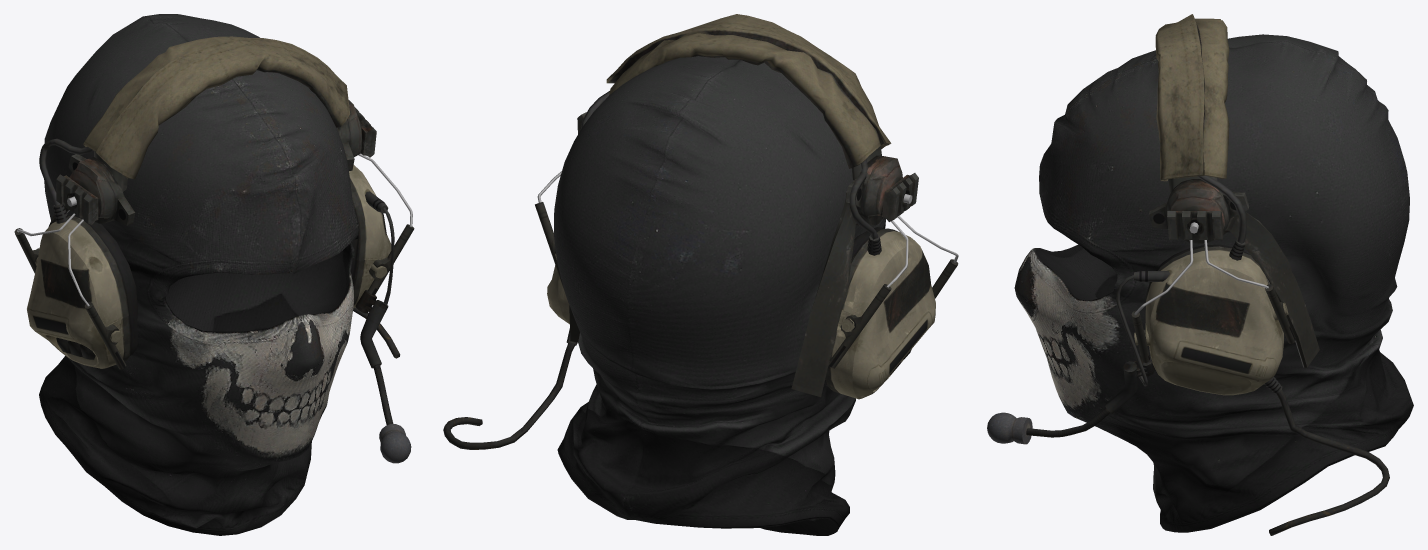
File: ghost_mask (1).glb
3 views of the same model, side by side, from view 1: azimuth 30°, elevation 25°; view 2: azimuth 150°, elevation 25°; view 3: azimuth 270°, elevation 25° (orthographic). The views are drawn at different scales.
Visible parts, largest first — view 1: berd_000_u.model.001_0, berd_000_u.model.002_1; view 2: berd_000_u.model.001_0, berd_000_u.model.002_1; view 3: berd_000_u.model.001_0, berd_000_u.model.002_1.
Boxes of the visible parts, x1,y1,x2,y2 form: berd_000_u.model.001_0: (39, 14, 358, 535); berd_000_u.model.002_1: (14, 36, 414, 463); berd_000_u.model.001_0: (554, 56, 885, 535); berd_000_u.model.002_1: (443, 14, 958, 449); berd_000_u.model.001_0: (1014, 34, 1413, 532); berd_000_u.model.002_1: (987, 14, 1389, 535).
Bounding box in the file's own units: 0.2812 × 0.3316 × 0.2666.
Materials: 2 (2 with a texture image).
